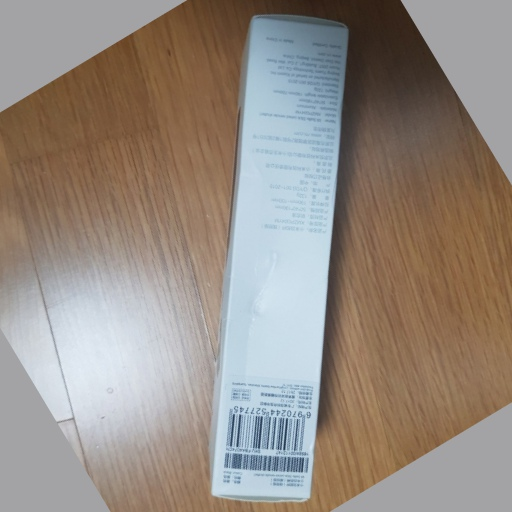Paper_0: (204, 8, 355, 512)
